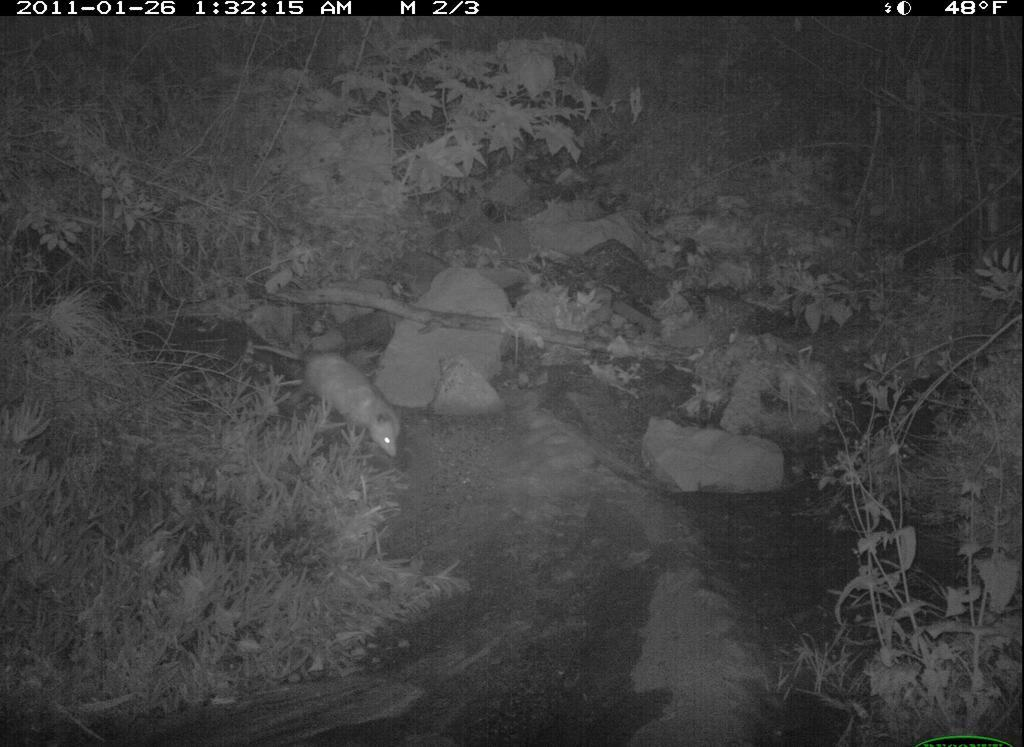opossum: (253, 323, 413, 461)
